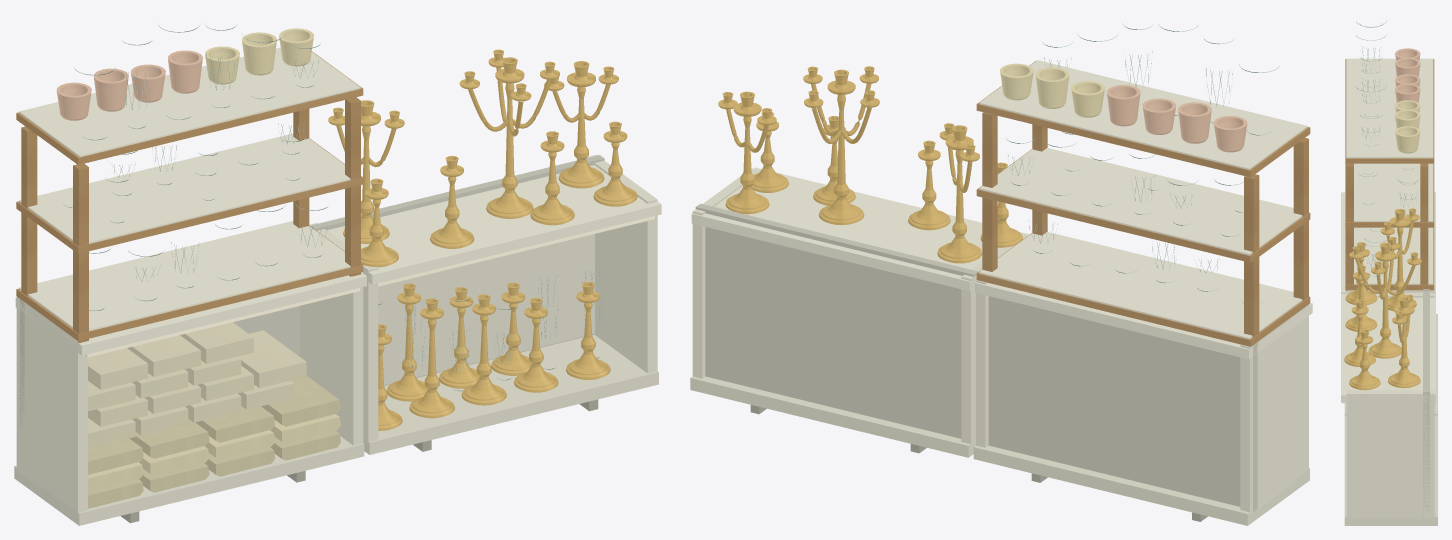
File: case.glb
3 views of the same model, side by side, from view 1: azimuth 30°, elevation 25°; view 2: azimuth 150°, elevation 25°; view 3: azimuth 270°, elevation 25° (orthographic). The views are drawn at different scales.
Visible parts, largest first — view 1: FloristBrassAndCabinet; view 2: FloristBrassAndCabinet; view 3: FloristBrassAndCabinet.
Part boxes in pixels (<box>): FloristBrassAndCabinet: <box>14,23,661,525</box>; FloristBrassAndCabinet: <box>690,23,1312,525</box>; FloristBrassAndCabinet: <box>1341,22,1437,525</box>.
Bounding box in the file's own units: 2.79 × 2.18 × 0.5619.
Materials: 1 (1 with a texture image).
